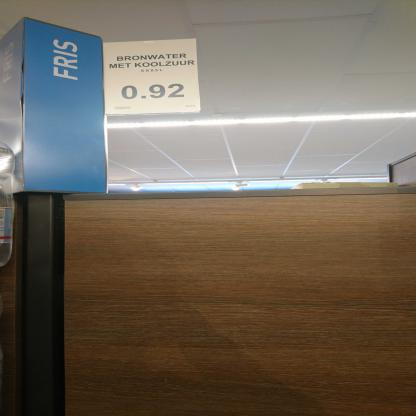prtg: (102, 40, 202, 116)
